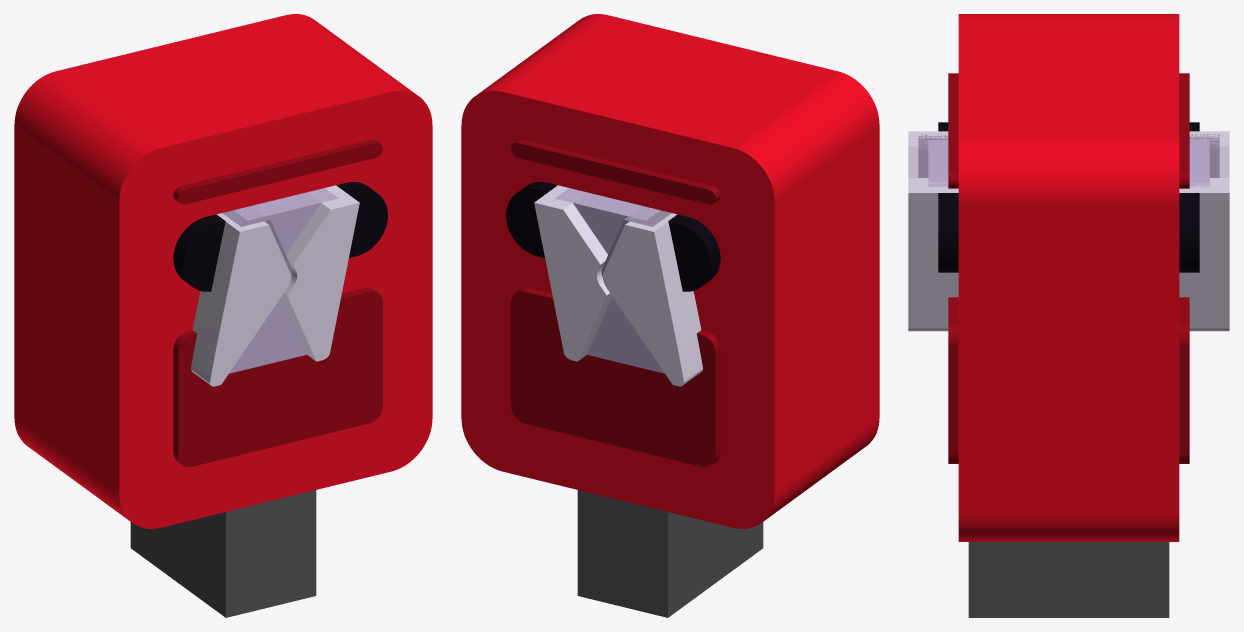
The picture shows the model from 3 angles, left to right: view 1: azimuth 30°, elevation 25°; view 2: azimuth 150°, elevation 25°; view 3: azimuth 270°, elevation 25°; orthographic projection. The views are drawn at different scales.
Parts seen in each view (by area): view 1: U+1F4EE_layer01_obj00, U+1F4EE_layer02_obj00, U+1F4EE_layer06_obj00, U+1F4EE_layer00_obj00, U+1F4EE_layer04_obj00, U+1F4EE_layer03_obj00, U+1F4EE_layer05_obj00; view 2: U+1F4EE_layer01_obj00, U+1F4EE_layer02_obj00, U+1F4EE_layer06_obj00, U+1F4EE_layer00_obj00, U+1F4EE_layer04_obj00, U+1F4EE_layer03_obj00, U+1F4EE_layer05_obj00; view 3: U+1F4EE_layer01_obj00, U+1F4EE_layer00_obj00, U+1F4EE_layer06_obj00, U+1F4EE_layer02_obj00, U+1F4EE_layer03_obj00, U+1F4EE_layer04_obj00, U+1F4EE_layer05_obj00.
Part boxes in pixels (<box>): U+1F4EE_layer01_obj00: <box>14,14,432,528</box>; U+1F4EE_layer02_obj00: <box>173,139,383,466</box>; U+1F4EE_layer06_obj00: <box>191,185,359,386</box>; U+1F4EE_layer00_obj00: <box>130,490,316,617</box>; U+1F4EE_layer04_obj00: <box>229,188,338,373</box>; U+1F4EE_layer03_obj00: <box>173,182,387,291</box>; U+1F4EE_layer05_obj00: <box>222,206,292,277</box>; U+1F4EE_layer01_obj00: <box>461,14,879,528</box>; U+1F4EE_layer02_obj00: <box>510,139,720,466</box>; U+1F4EE_layer06_obj00: <box>534,185,702,386</box>; U+1F4EE_layer00_obj00: <box>577,490,763,617</box>; U+1F4EE_layer04_obj00: <box>555,188,664,373</box>; U+1F4EE_layer03_obj00: <box>506,182,720,291</box>; U+1F4EE_layer05_obj00: <box>601,206,671,277</box>; U+1F4EE_layer01_obj00: <box>958,14,1179,541</box>; U+1F4EE_layer00_obj00: <box>968,542,1169,617</box>; U+1F4EE_layer06_obj00: <box>908,131,1229,331</box>; U+1F4EE_layer02_obj00: <box>948,73,1189,463</box>; U+1F4EE_layer03_obj00: <box>938,122,1199,272</box>; U+1F4EE_layer04_obj00: <box>928,140,1209,187</box>; U+1F4EE_layer05_obj00: <box>918,134,1219,177</box>.
Size of the model in its own units: 0.3793 by 0.5677 by 0.32.
